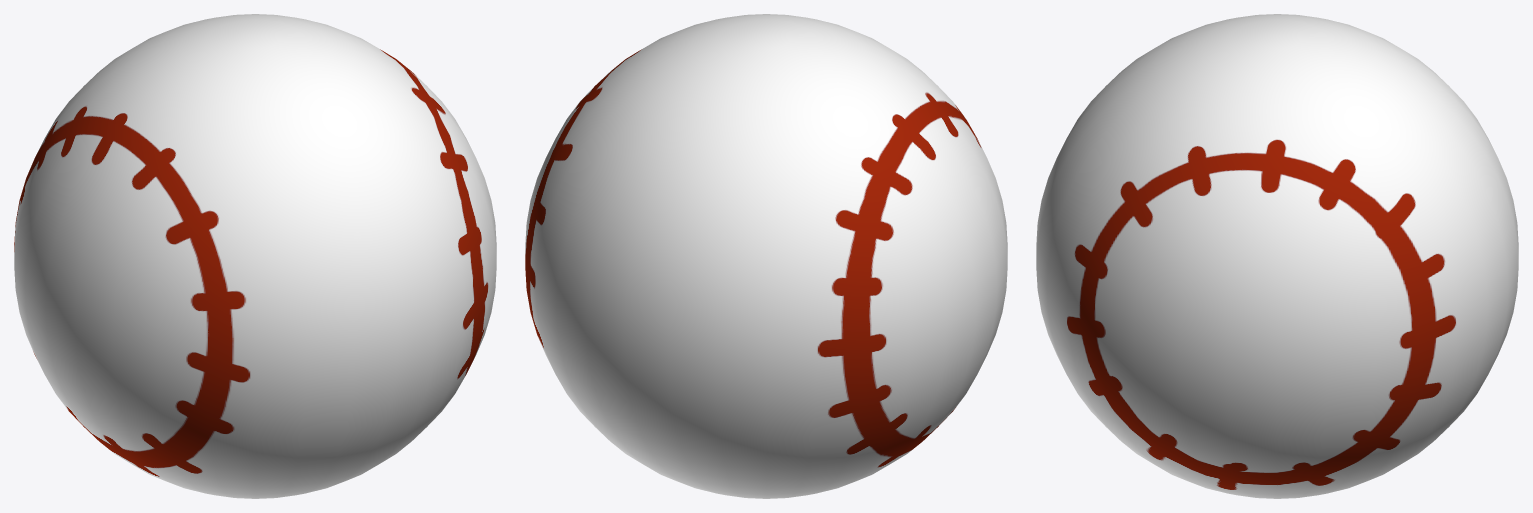
File: ball2.fbx
3 views of the same model, side by side, from view 1: azimuth 30°, elevation 25°; view 2: azimuth 150°, elevation 25°; view 3: azimuth 270°, elevation 25° (orthographic).
Visible parts, largest first — view 1: SolidSphere; view 2: SolidSphere; view 3: SolidSphere.
Boxes of the visible parts, box(x1,y1,x2,y2) form: SolidSphere: box(14, 14, 496, 498); SolidSphere: box(525, 14, 1007, 498); SolidSphere: box(1036, 14, 1518, 498).
Size of the model in its own units: 100 by 100 by 99.48.
